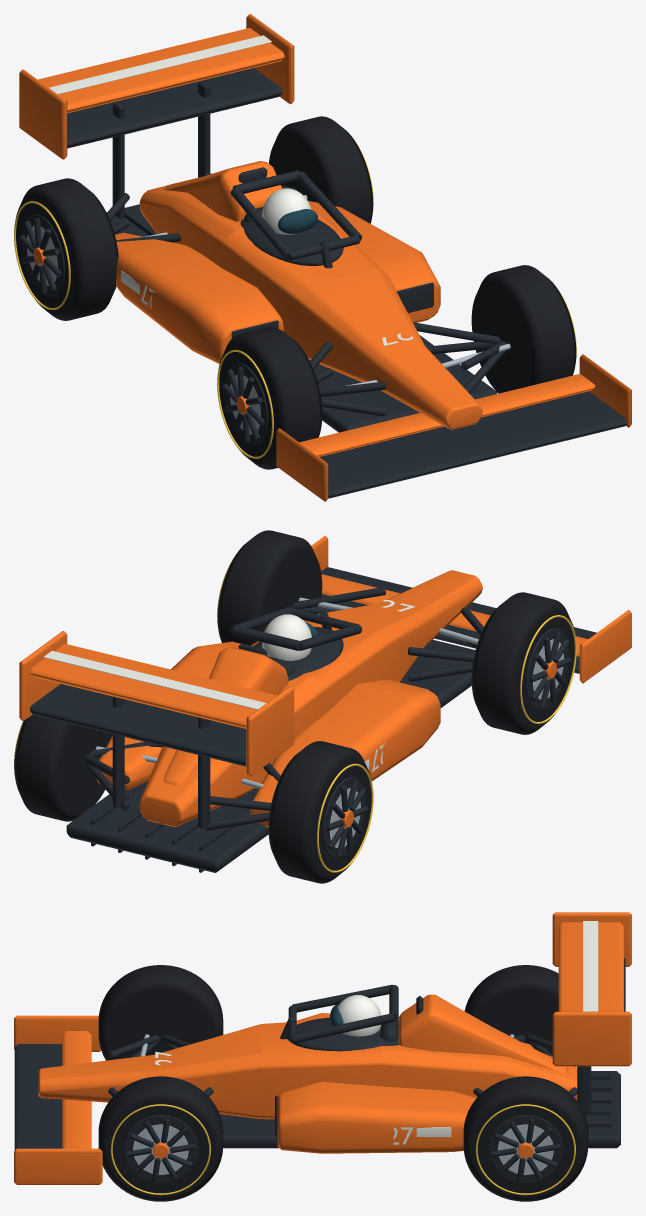
Rendered from race-car.glb.
3 views of the same model, one above another, from view 1: azimuth 30°, elevation 25°; view 2: azimuth 150°, elevation 25°; view 3: azimuth 270°, elevation 25° (orthographic). The views are drawn at different scales.
Visible parts, largest first — view 1: body, wheel_rear_right, wheel_front_right, wheel_front_left, wheel_rear_left; view 2: body, wheel_rear_right, wheel_front_right, wheel_front_left, wheel_rear_left; view 3: body, wheel_rear_left, wheel_front_left, wheel_front_right, wheel_rear_right.
Part boxes in pixels (bbox=[...]): body: bbox=[19, 14, 631, 501]; wheel_rear_right: bbox=[14, 178, 118, 320]; wheel_front_right: bbox=[217, 327, 322, 469]; wheel_front_left: bbox=[471, 265, 576, 393]; wheel_rear_left: bbox=[269, 116, 373, 223]; body: bbox=[19, 535, 631, 872]; wheel_rear_right: bbox=[268, 741, 373, 883]; wheel_front_right: bbox=[471, 592, 576, 734]; wheel_front_left: bbox=[217, 530, 322, 645]; wheel_rear_left: bbox=[14, 714, 112, 821]; body: bbox=[14, 912, 631, 1184]; wheel_rear_left: bbox=[463, 1076, 588, 1201]; wheel_front_left: bbox=[98, 1076, 223, 1201]; wheel_front_right: bbox=[98, 965, 223, 1060]; wheel_rear_right: bbox=[464, 965, 576, 1066].
Bounding box in the file's own units: 2.78 × 1.68 × 5.3.
